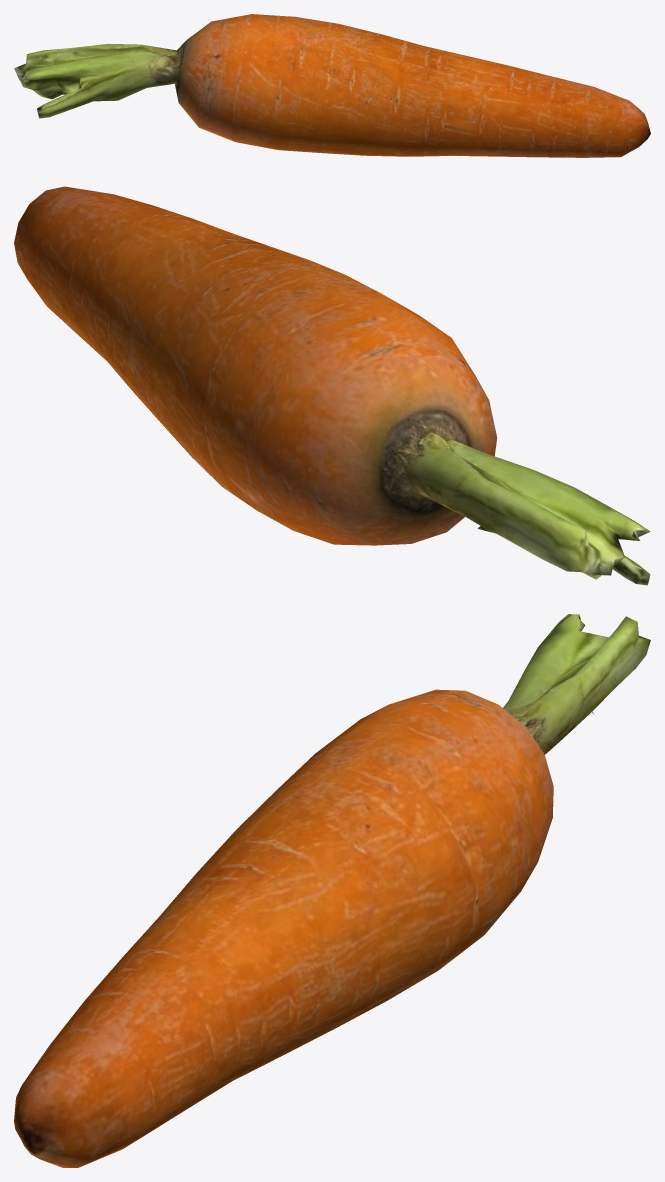
The model's file is A134_Carrot_low.fbx.
3 views of the same model, one above another, from view 1: azimuth 30°, elevation 25°; view 2: azimuth 150°, elevation 25°; view 3: azimuth 270°, elevation 25° (orthographic). The views are drawn at different scales.
Parts seen in each view (by area): view 1: A134_Carrot_low; view 2: A134_Carrot_low; view 3: A134_Carrot_low.
Boxes of the visible parts, box(x1,y1,x2,y2) form: A134_Carrot_low: box(14, 14, 650, 157); A134_Carrot_low: box(14, 186, 650, 585); A134_Carrot_low: box(14, 614, 650, 1167).
Bounding box in the file's own units: 23.01 × 14.68 × 5.91.
Materials: 1 (1 with a texture image).
